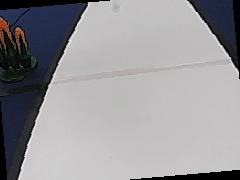corn: (0, 15, 40, 81)
